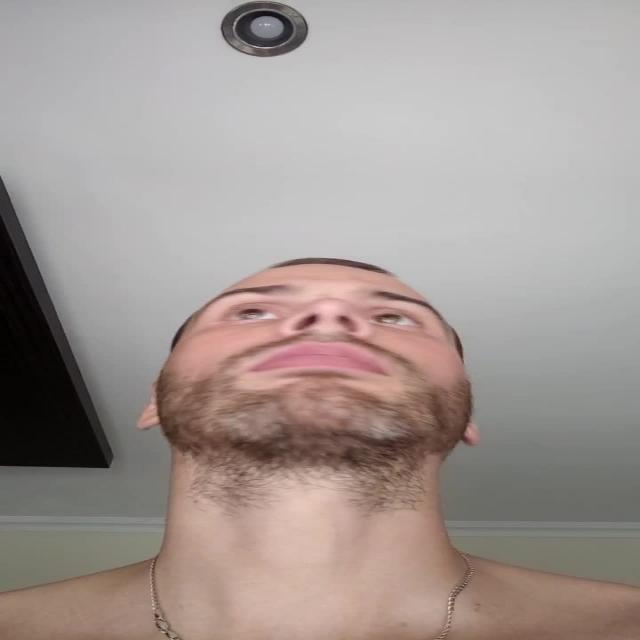earlobe: (460, 422, 482, 450), (136, 414, 167, 432)
eye: (372, 311, 423, 329), (227, 306, 285, 321)
nose: (281, 326, 368, 346)
